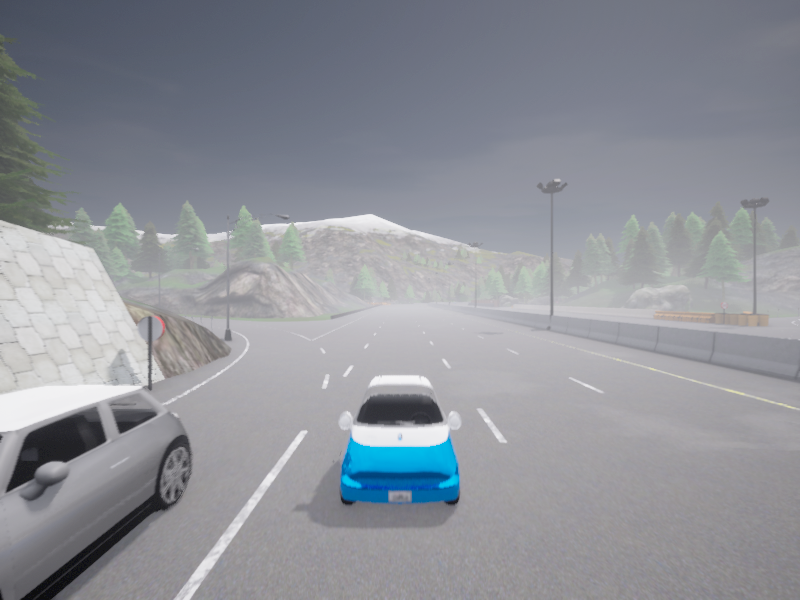vehicle: (0, 385, 191, 599), (339, 375, 461, 505), (454, 302, 456, 303)
